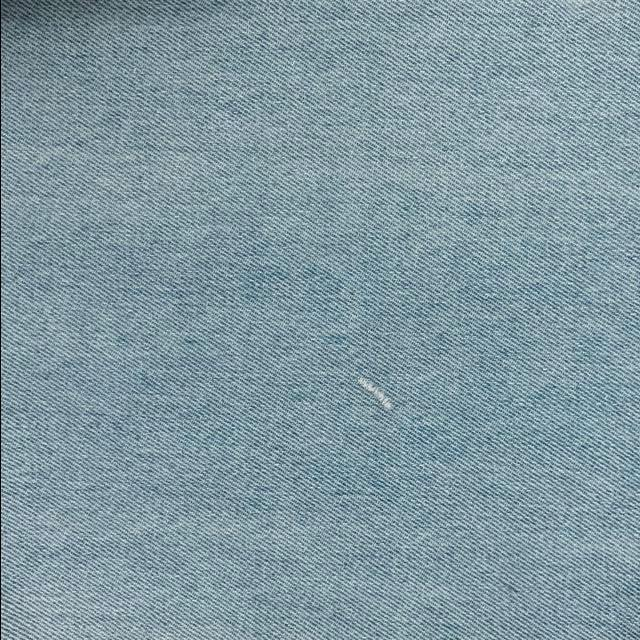Knot: (357, 377, 392, 411)
